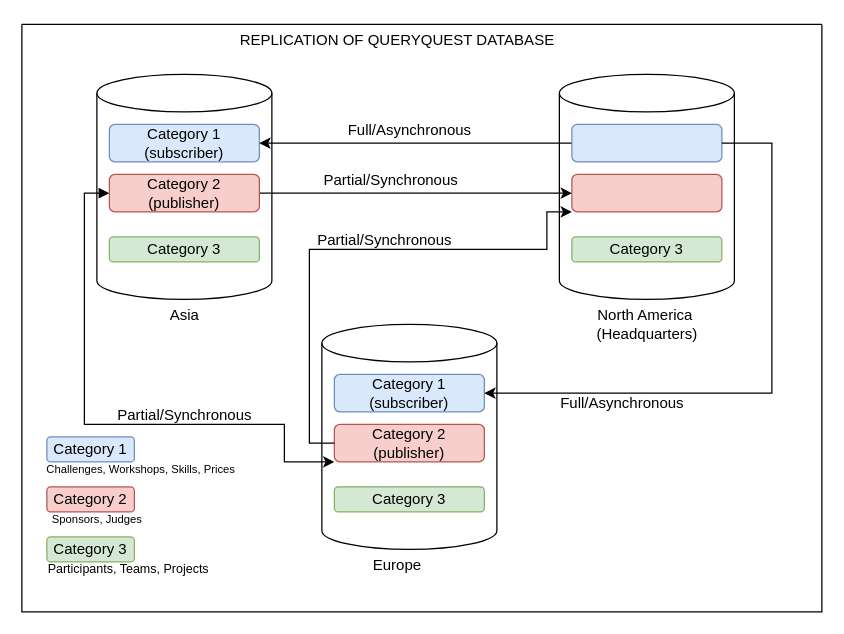
The diagram is 844 pixels wide and 634 high, and some of its shapes have lost their labels. The shapes that lost their labels are listed below. From the top down, each one's centre as x and y in pixels, then its label:
At (x=646, y=142): "Category 1 (publisher)".
At (x=646, y=192): "Category 2 (subscriber)".
